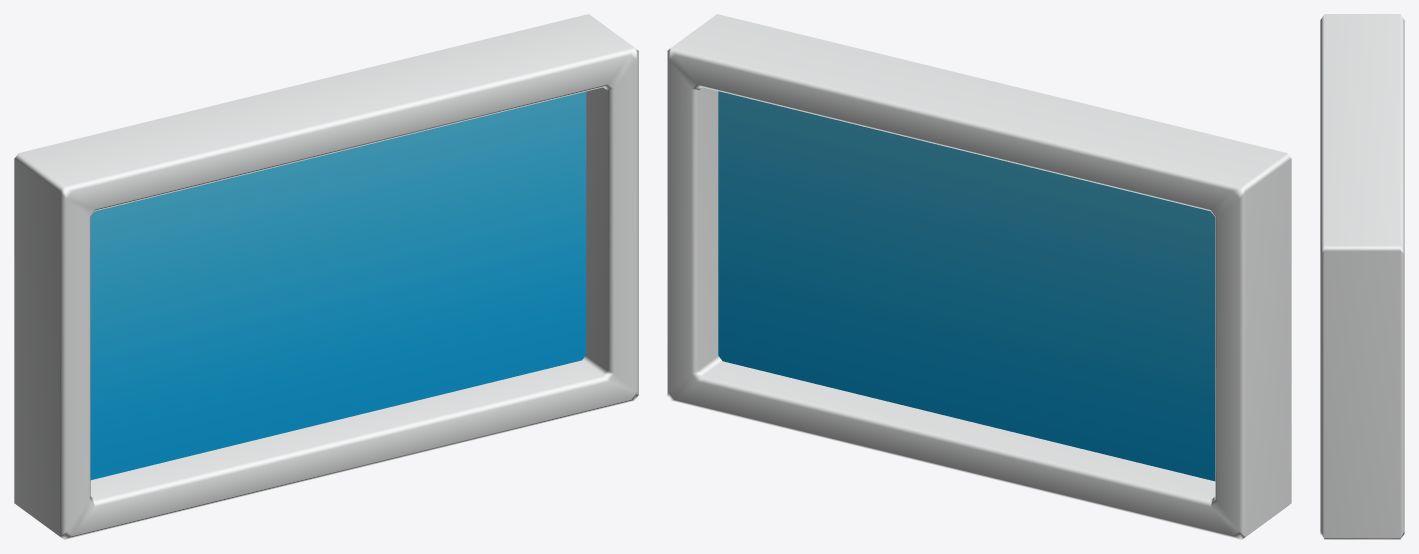
The model's file is Window_White_05.glb.
The picture shows the model from 3 angles, left to right: view 1: azimuth 30°, elevation 25°; view 2: azimuth 150°, elevation 25°; view 3: azimuth 270°, elevation 25°; orthographic projection. The views are drawn at different scales.
Parts seen in each view (by area): view 1: Window_White_05; view 2: Window_White_05; view 3: Window_White_05.
Boxes of the visible parts, bbox=[...] form: Window_White_05: bbox=[14, 14, 638, 539]; Window_White_05: bbox=[667, 14, 1291, 539]; Window_White_05: bbox=[1320, 14, 1404, 539].
Size of the model in its own units: 2.64 by 1.54 by 0.4.
2 materials, 2 textured.
